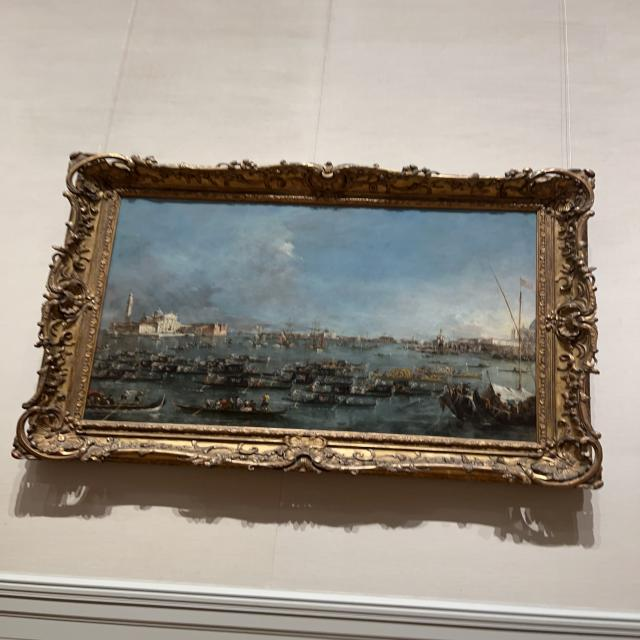ships: (83, 195, 538, 441)
